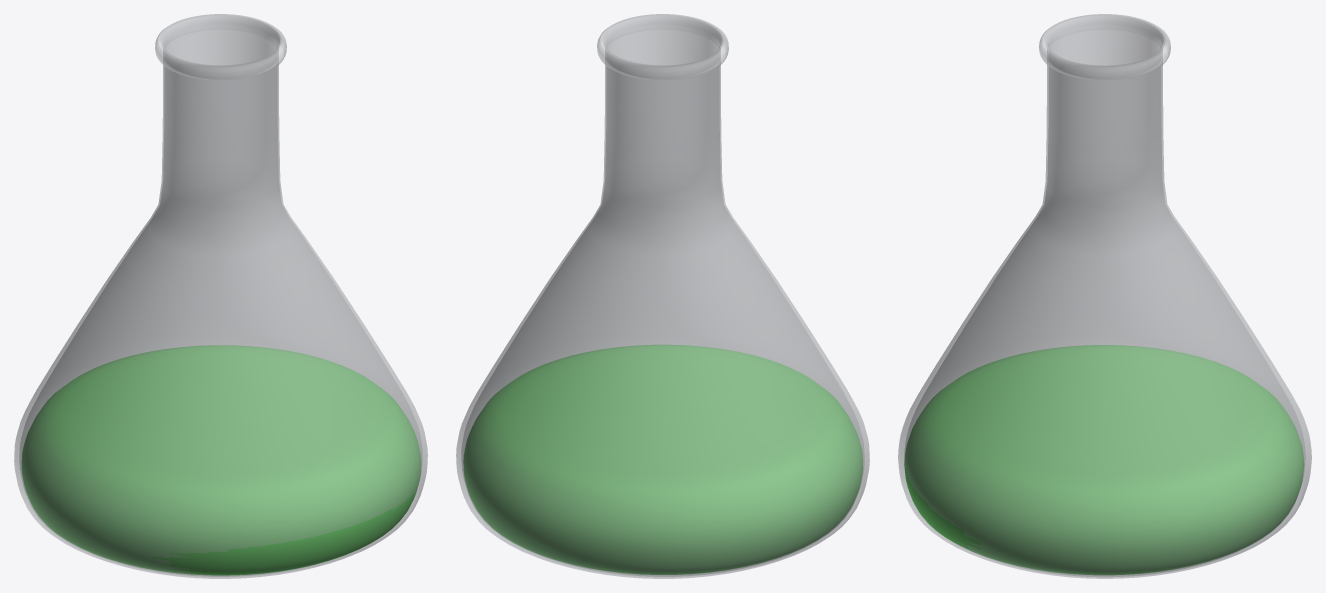
Rendered from Колба_Зеленый.fbx.
3 renders of one model, left to right at view 1: azimuth 30°, elevation 25°; view 2: azimuth 150°, elevation 25°; view 3: azimuth 270°, elevation 25°, orthographic.
Parts seen in each view (by area): view 1: Cylinder.001, Cylinder.002; view 2: Cylinder.001, Cylinder.002; view 3: Cylinder.001, Cylinder.002.
Boxes of the visible parts, bbox=[...] form: Cylinder.001: bbox=[14, 14, 427, 578]; Cylinder.002: bbox=[22, 345, 420, 575]; Cylinder.001: bbox=[456, 14, 869, 578]; Cylinder.002: bbox=[463, 345, 862, 574]; Cylinder.001: bbox=[898, 14, 1311, 578]; Cylinder.002: bbox=[904, 345, 1303, 574].
Bounding box in the file's own units: 92.6 × 118 × 92.6.
